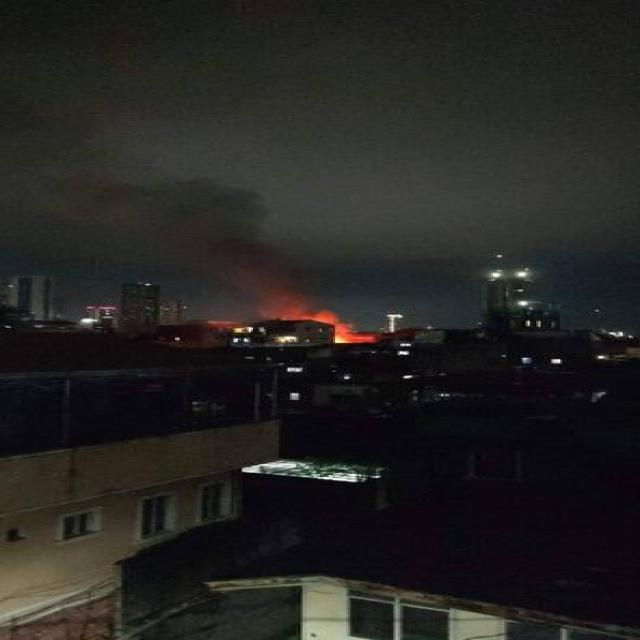Fire: (278, 305, 376, 344)
Smoke: (55, 178, 324, 320)
